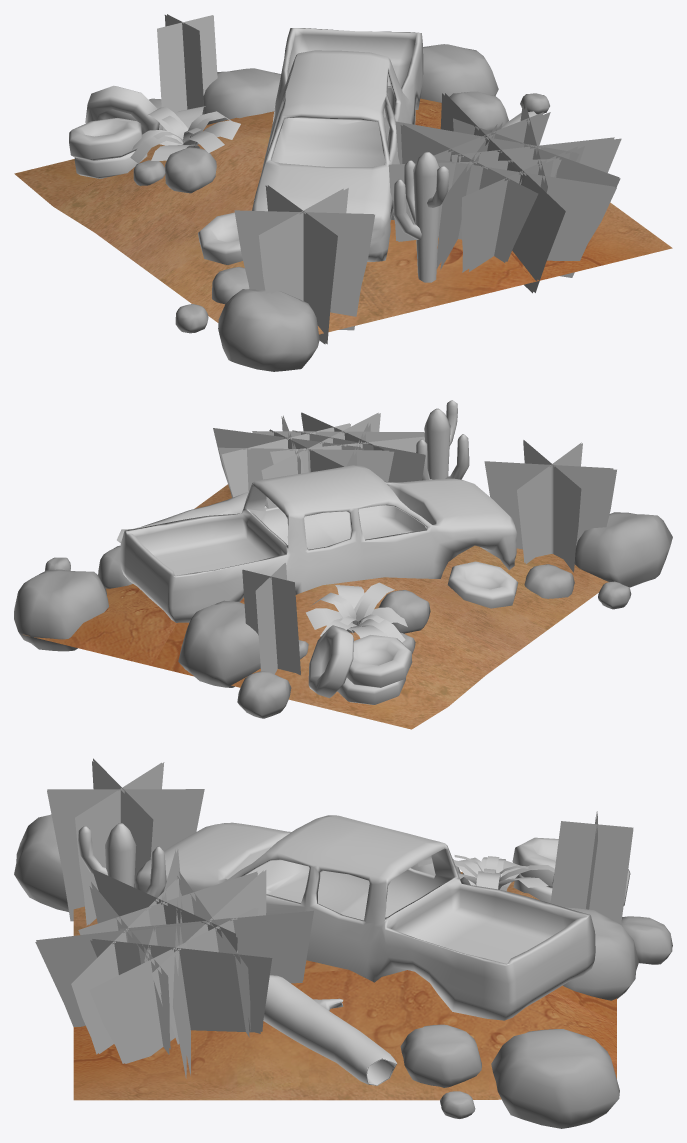
Rendered from SM_carcasse_rock.fbx.
3 renders of one model, top to bottom at view 1: azimuth 30°, elevation 25°; view 2: azimuth 150°, elevation 25°; view 3: azimuth 270°, elevation 25°, orthographic. The views are drawn at different scales.
Visible parts, largest first — view 1: Carcasse_rock; view 2: Carcasse_rock; view 3: Carcasse_rock.
Boxes of the visible parts, x1=… form: Carcasse_rock: x1=14, y1=14, x2=672, y2=371; Carcasse_rock: x1=14, y1=400, x2=672, y2=729; Carcasse_rock: x1=14, y1=758, x2=672, y2=1128.
Size of the model in its own units: 367 by 109 by 374.
